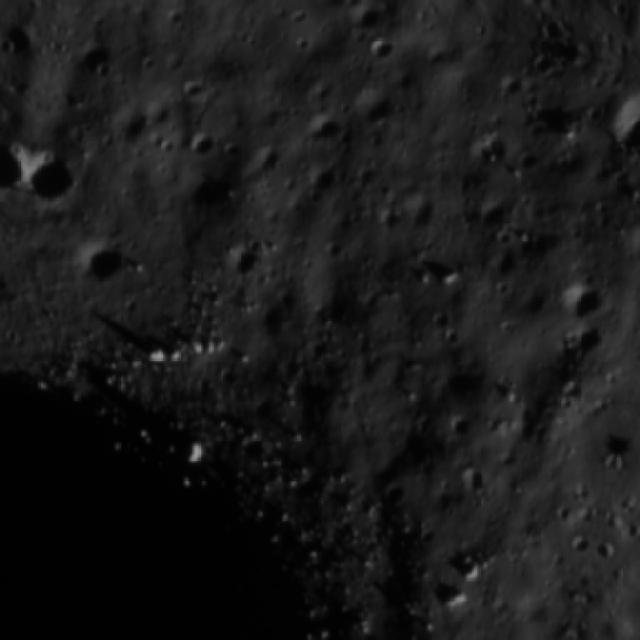crater: (18, 134, 97, 220), (68, 236, 152, 301), (505, 37, 597, 80), (218, 230, 278, 293), (604, 72, 640, 172), (558, 266, 618, 326), (349, 83, 405, 131), (302, 106, 349, 152), (563, 322, 609, 368), (356, 29, 404, 73), (181, 124, 222, 164), (57, 0, 78, 49), (367, 2, 405, 13)
